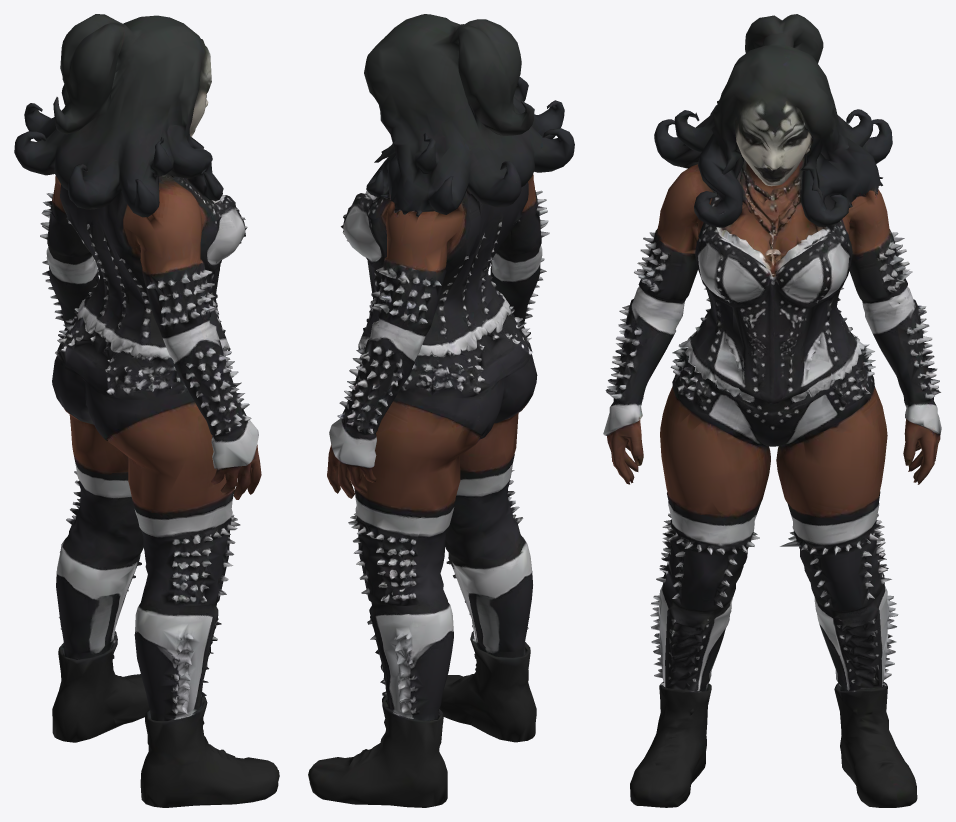
The model's file is ONYX_corset.glb.
3 views of the same model, side by side, from view 1: azimuth 30°, elevation 25°; view 2: azimuth 150°, elevation 25°; view 3: azimuth 270°, elevation 25° (orthographic).
Parts seen in each view (by area): view 1: tripo_node_7079dc00-4884-405e-b748-e7488c339d4c; view 2: tripo_node_7079dc00-4884-405e-b748-e7488c339d4c; view 3: tripo_node_7079dc00-4884-405e-b748-e7488c339d4c.
Part boxes in pixels (box(x1,y1,x2,y2)): tripo_node_7079dc00-4884-405e-b748-e7488c339d4c: box(14, 14, 279, 807); tripo_node_7079dc00-4884-405e-b748-e7488c339d4c: box(308, 14, 574, 807); tripo_node_7079dc00-4884-405e-b748-e7488c339d4c: box(603, 14, 941, 807).
Bounding box in the file's own units: 0.2511 × 0.9998 × 0.412.
1 material, 1 textured.
